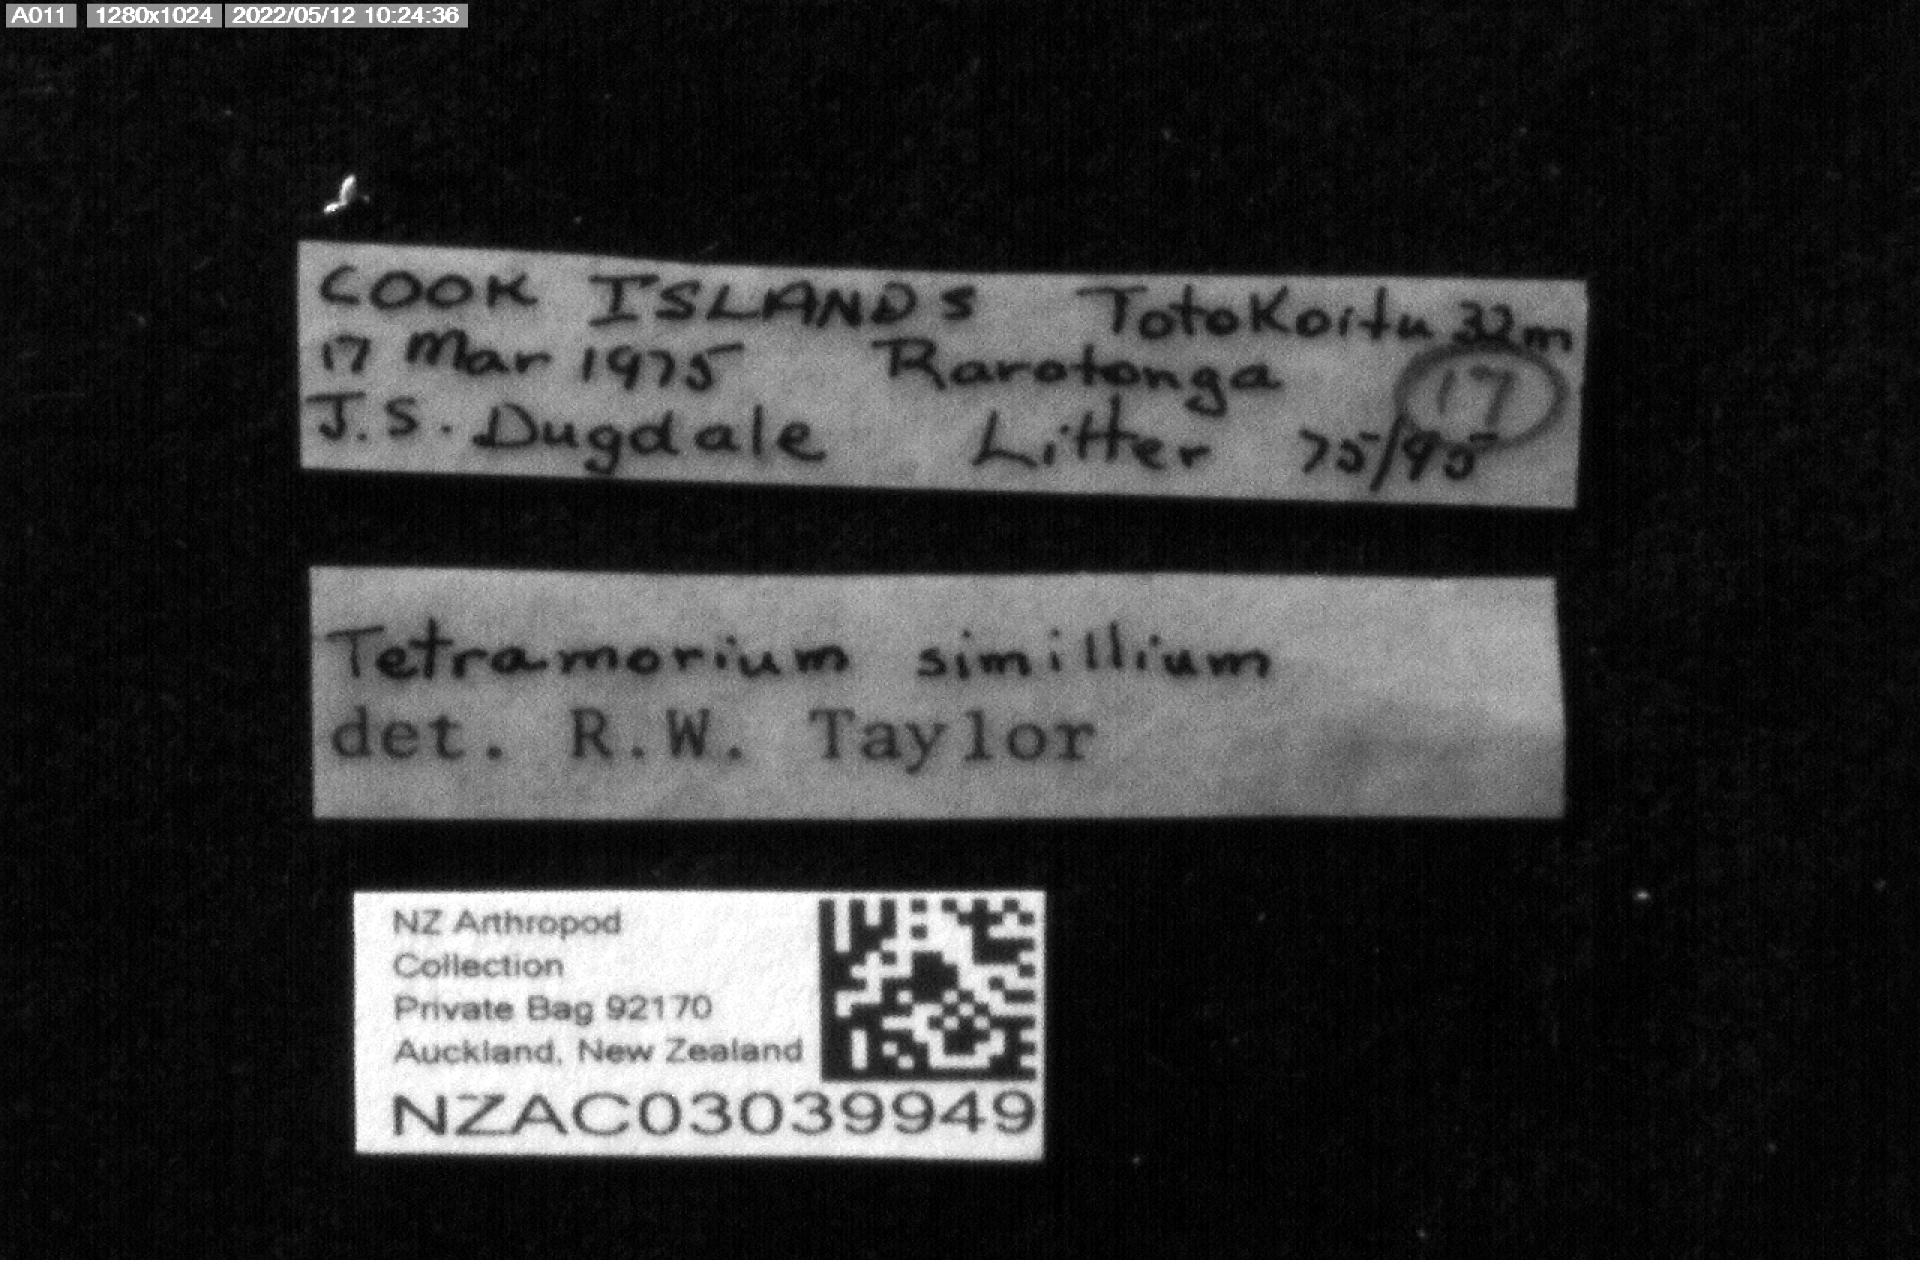hand_label: (300, 240, 1586, 506)
mixed_label: (311, 566, 1564, 819)
typed_label: (353, 890, 1046, 1160)
